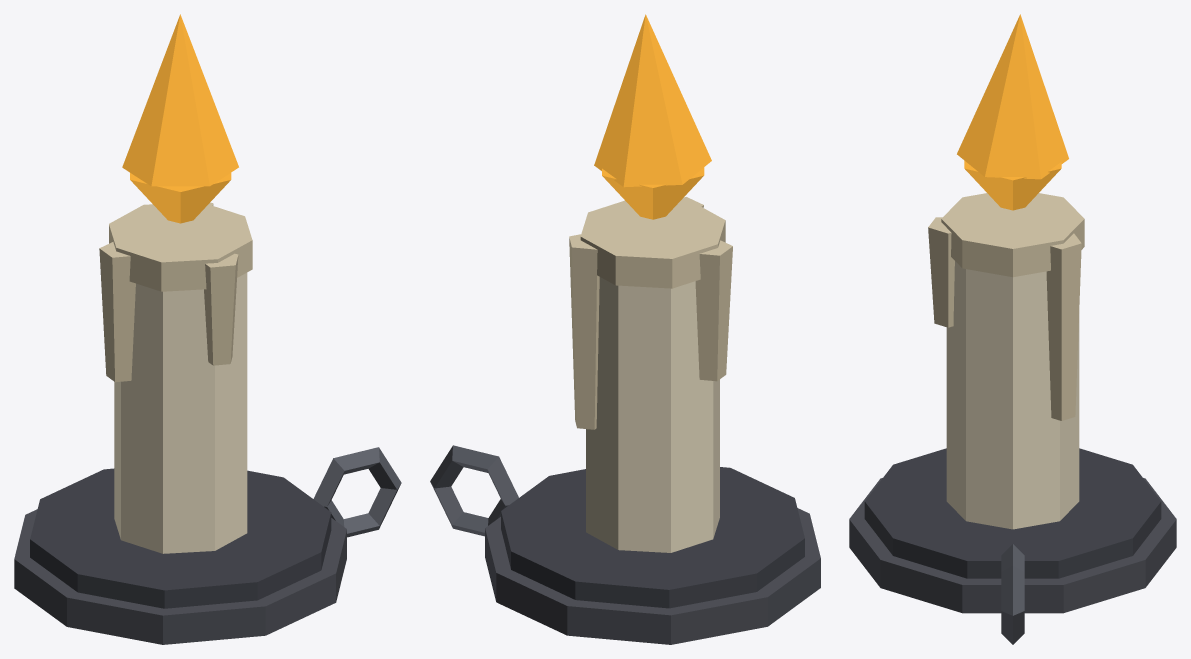
File: candle.glb
3 views of the same model, side by side, from view 1: azimuth 30°, elevation 25°; view 2: azimuth 150°, elevation 25°; view 3: azimuth 270°, elevation 25° (orthographic). The views are drawn at different scales.
Parts seen in each view (by area): view 1: Wax, Iron, Flame; view 2: Wax, Iron, Flame; view 3: Wax, Iron, Flame.
Boxes of the visible parts, x1,y1,x2,y2 form: Wax: (99, 202, 252, 553); Iron: (14, 447, 401, 644); Flame: (122, 14, 238, 223); Wax: (569, 197, 732, 552); Iron: (430, 445, 820, 644); Flame: (594, 14, 711, 219); Wax: (928, 193, 1084, 529); Iron: (849, 448, 1176, 644); Flame: (957, 14, 1068, 210).
Size of the model in its own units: 1.03 by 1.53 by 0.84.
Materials: 3 (3 with a texture image).
